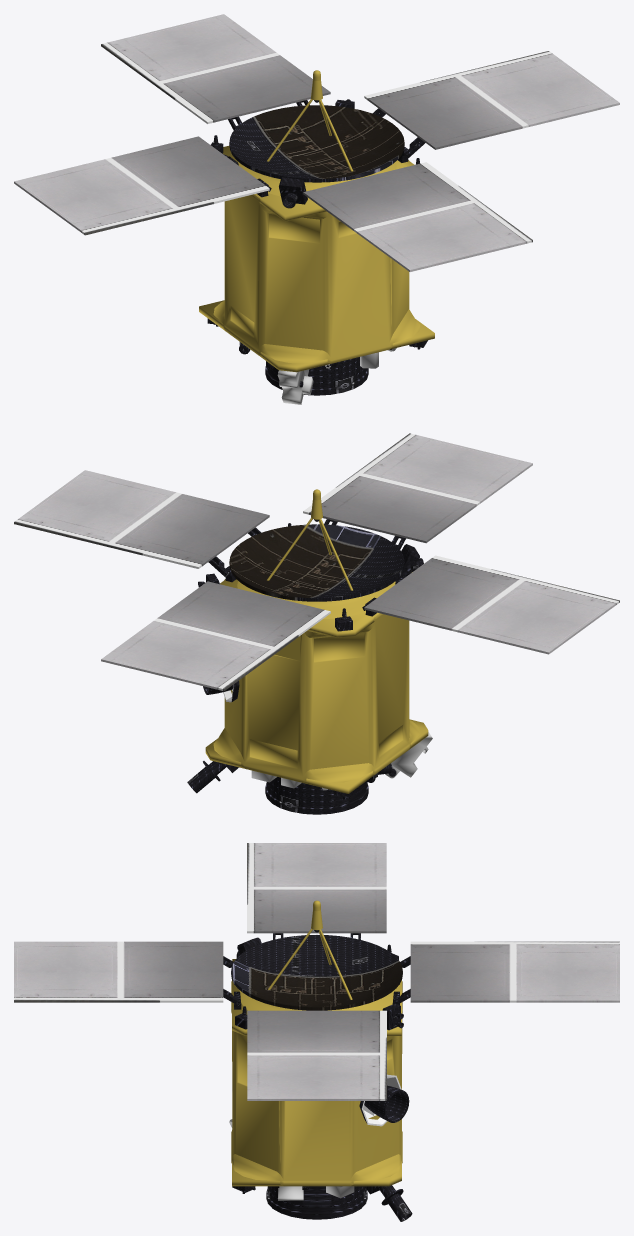
3 views of the same model, one above another, from view 1: azimuth 30°, elevation 25°; view 2: azimuth 150°, elevation 25°; view 3: azimuth 270°, elevation 25° (orthographic).
Parts seen in each view (by area): view 1: shiny_panels, foil_gold, tex_01, foil_silver; view 2: shiny_panels, foil_gold, tex_01, foil_silver; view 3: shiny_panels, tex_01, foil_gold, foil_silver.
Boxes of the visible parts, bbox=[...] form: shiny_panels: bbox=[16, 15, 617, 269]; foil_gold: bbox=[199, 70, 434, 372]; tex_01: bbox=[14, 14, 619, 395]; foil_silver: bbox=[277, 348, 396, 404]; shiny_panels: bbox=[16, 434, 617, 688]; foil_gold: bbox=[205, 489, 428, 793]; tex_01: bbox=[14, 433, 619, 814]; foil_silver: bbox=[251, 732, 432, 790]; shiny_panels: bbox=[15, 843, 618, 1098]; tex_01: bbox=[14, 843, 619, 1221]; foil_gold: bbox=[231, 900, 402, 1186]; foil_silver: bbox=[229, 1119, 354, 1200].
Size of the model in its own units: 5.29 by 5.29 by 2.86.
4 materials, 2 textured.
